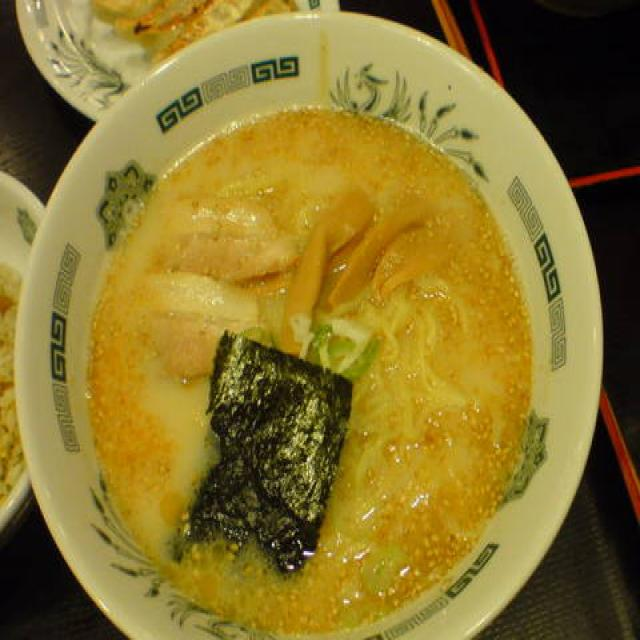面条主食: (73, 98, 548, 640)
